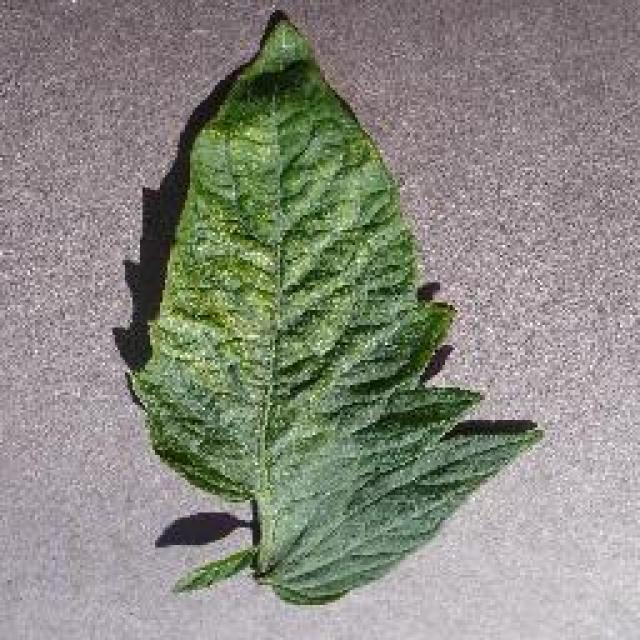Tomato spider mites leaf: (123, 11, 540, 608)
